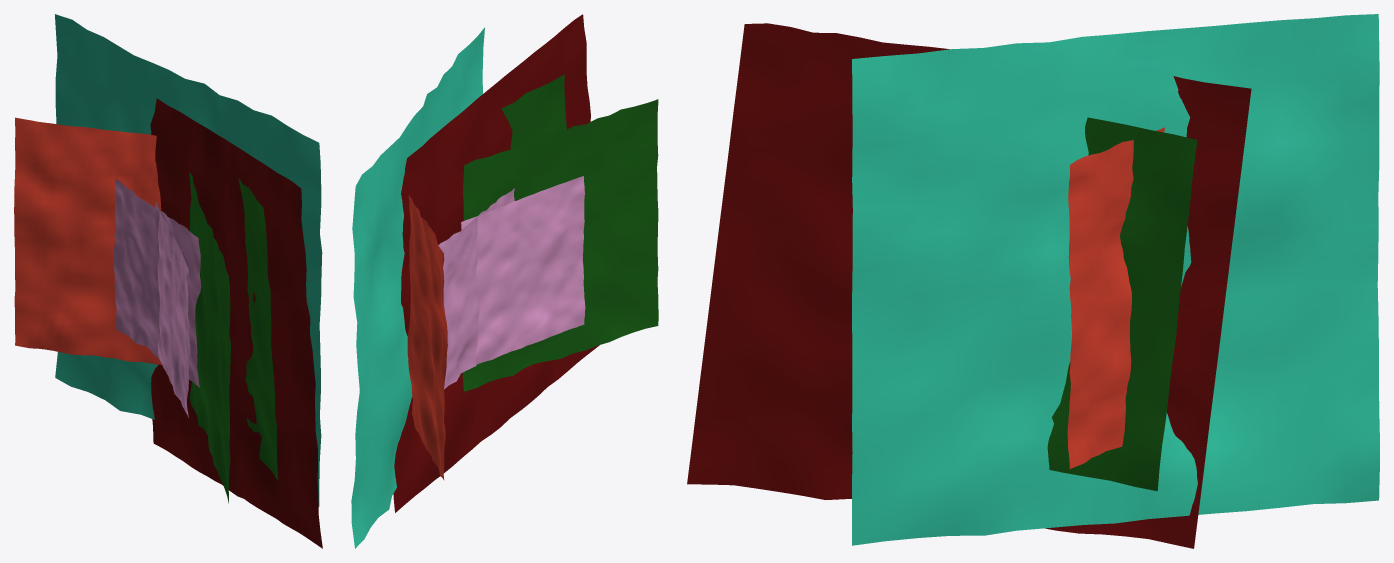
Rendered from fog.fbx.
The picture shows the model from 3 angles, left to right: view 1: azimuth 30°, elevation 25°; view 2: azimuth 150°, elevation 25°; view 3: azimuth 270°, elevation 25°; orthographic projection. The views are drawn at different scales.
Visible parts, largest first — view 1: fog_transparent_018, fog_animation_001, fog_animation_008, fog_animation_004, fog_animation_025.001, fog_animation_025, fog_animation_004.001; view 2: fog_animation_025.001, fog_transparent_018, fog_animation_008, fog_animation_004.001, fog_animation_001, fog_animation_004, fog_animation_025; view 3: fog_animation_008, fog_transparent_018, fog_animation_025, fog_animation_001.
Part boxes in pixels (x1,y1,x2,y2): fog_transparent_018: [150, 98, 322, 548]; fog_animation_001: [14, 117, 162, 364]; fog_animation_008: [55, 14, 322, 506]; fog_animation_004: [113, 179, 201, 387]; fog_animation_025.001: [189, 171, 230, 503]; fog_animation_025: [238, 178, 278, 480]; fog_animation_004.001: [155, 202, 190, 417]; fog_animation_025.001: [462, 99, 658, 391]; fog_transparent_018: [393, 14, 599, 512]; fog_animation_008: [351, 27, 484, 548]; fog_animation_004.001: [461, 176, 585, 364]; fog_animation_001: [407, 195, 447, 480]; fog_animation_004: [438, 188, 514, 389]; fog_animation_025: [502, 74, 566, 149]; fog_animation_008: [852, 14, 1379, 545]; fog_transparent_018: [687, 23, 1251, 548]; fog_animation_025: [1047, 117, 1197, 491]; fog_animation_001: [1067, 127, 1164, 468].
Size of the model in its own units: 35326 by 85160 by 103174.
